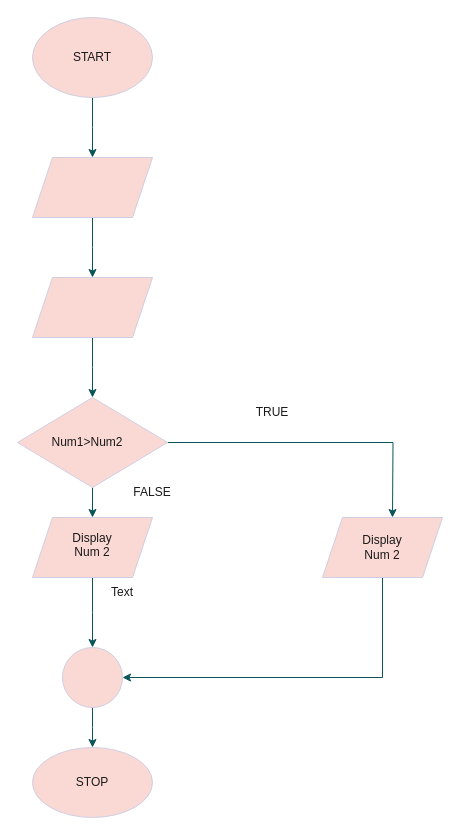
This 460x835 diagram has some shape labels left out. Each missing label, with the centre of its shape:
Input Num 1: the point at 92,187
Input Num 2: the point at 92,307
